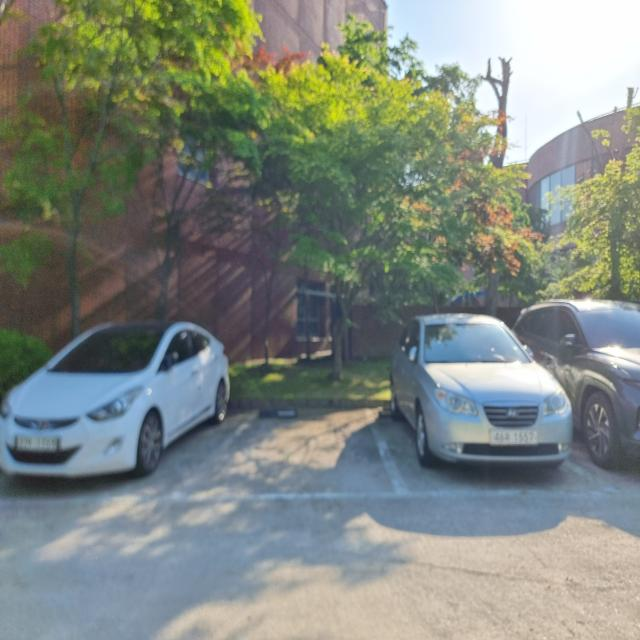empty: (157, 405, 403, 501)
occupied: (0, 315, 222, 484), (392, 312, 579, 482), (560, 299, 640, 480)
